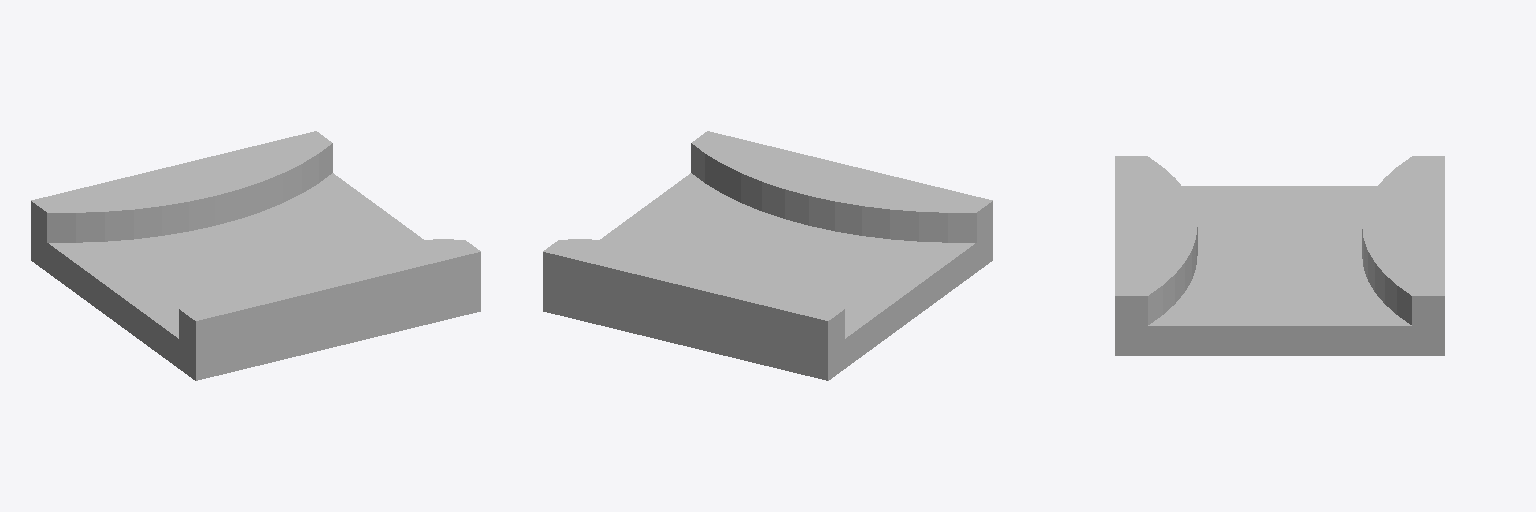
Rendered from mnarrow.obj.
3 views of the same model, side by side, from view 1: azimuth 30°, elevation 25°; view 2: azimuth 150°, elevation 25°; view 3: azimuth 270°, elevation 25° (orthographic).
Parts seen in each view (by area): view 1: mnarrow; view 2: mnarrow; view 3: mnarrow.
Part boxes in pixels (bbox=[...]): mnarrow: bbox=[31, 131, 480, 380]; mnarrow: bbox=[543, 131, 992, 380]; mnarrow: bbox=[1115, 156, 1444, 355].
Bounding box in the file's own units: 10 × 2 × 10.